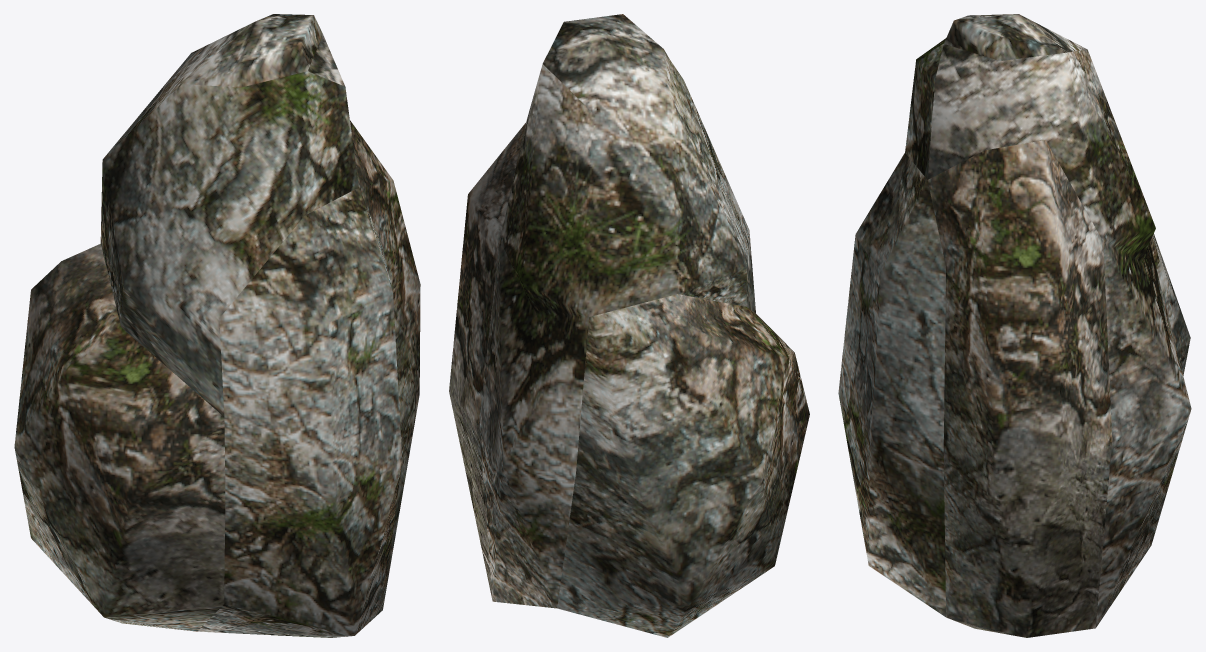
File: shijieditu_12.FBX
The picture shows the model from 3 angles, left to right: view 1: azimuth 30°, elevation 25°; view 2: azimuth 150°, elevation 25°; view 3: azimuth 270°, elevation 25°; orthographic projection. The views are drawn at different scales.
Visible parts, largest first — view 1: shijieditu_12; view 2: shijieditu_12; view 3: shijieditu_12.
Boxes of the visible parts, x1,y1,x2,y2 form: shijieditu_12: [14, 14, 420, 637]; shijieditu_12: [449, 14, 809, 637]; shijieditu_12: [838, 14, 1191, 637].
Size of the model in its own units: 58.92 by 96.36 by 52.28.
